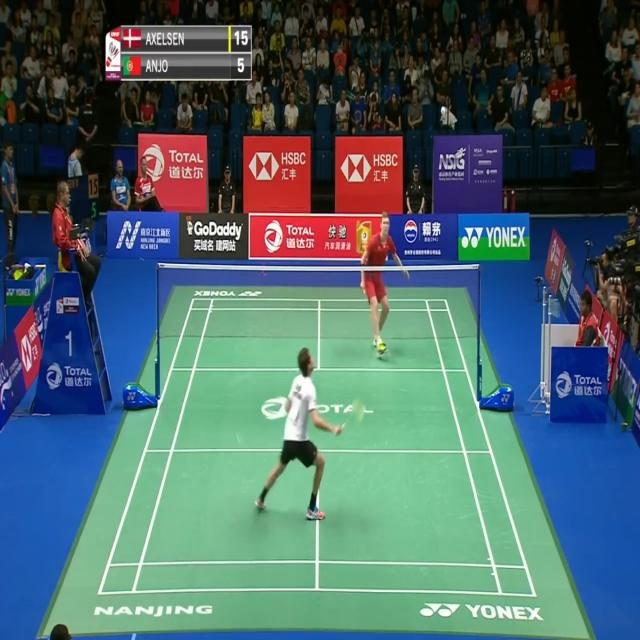Player1: (253, 348, 367, 524)
Player2: (358, 210, 414, 364)
